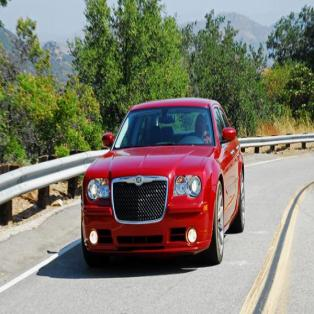Auto: (81, 98, 246, 266)
